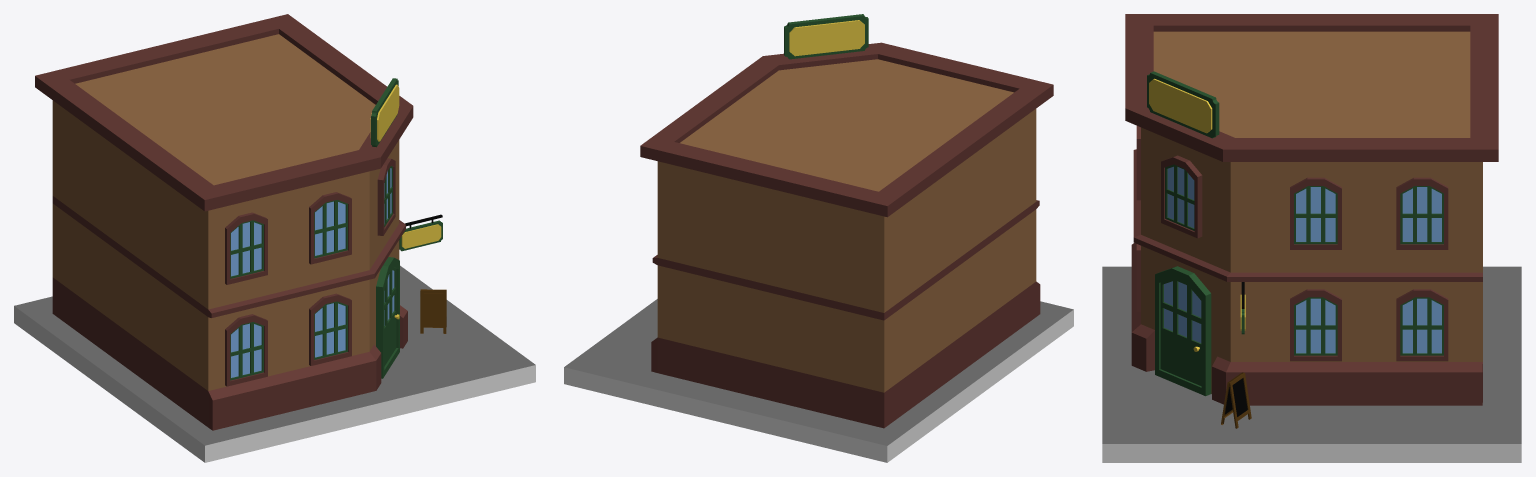
The model's file is Restaurant.gltf.
3 renders of one model, left to right at view 1: azimuth 30°, elevation 25°; view 2: azimuth 150°, elevation 25°; view 3: azimuth 270°, elevation 25°, orthographic. The views are drawn at different scales.
Visible parts, largest first — view 1: Cube, Baza 1x1.002, prozorI, VRATA RESTORANA, znakovi, TABLA; view 2: Cube, Baza 1x1.002, znakovi; view 3: Cube, Baza 1x1.002, prozorI, VRATA RESTORANA, znakovi, TABLA.
Boxes of the visible parts, x1,y1,x2,y2 form: Cube: (35, 14, 413, 430); Baza 1x1.002: (14, 265, 535, 462); prozorI: (225, 158, 395, 386); VRATA RESTORANA: (376, 257, 399, 378); znakovi: (370, 78, 442, 251); TABLA: (420, 289, 446, 333); Cube: (640, 42, 1053, 428); Baza 1x1.002: (564, 299, 1073, 462); znakovi: (784, 14, 868, 59); Cube: (1125, 14, 1498, 405); Baza 1x1.002: (1102, 266, 1521, 462); prozorI: (1136, 126, 1448, 361); VRATA RESTORANA: (1155, 266, 1211, 396); znakovi: (1147, 71, 1245, 334); TABLA: (1221, 372, 1251, 428).
Size of the model in its own units: 2 by 1.67 by 2.
